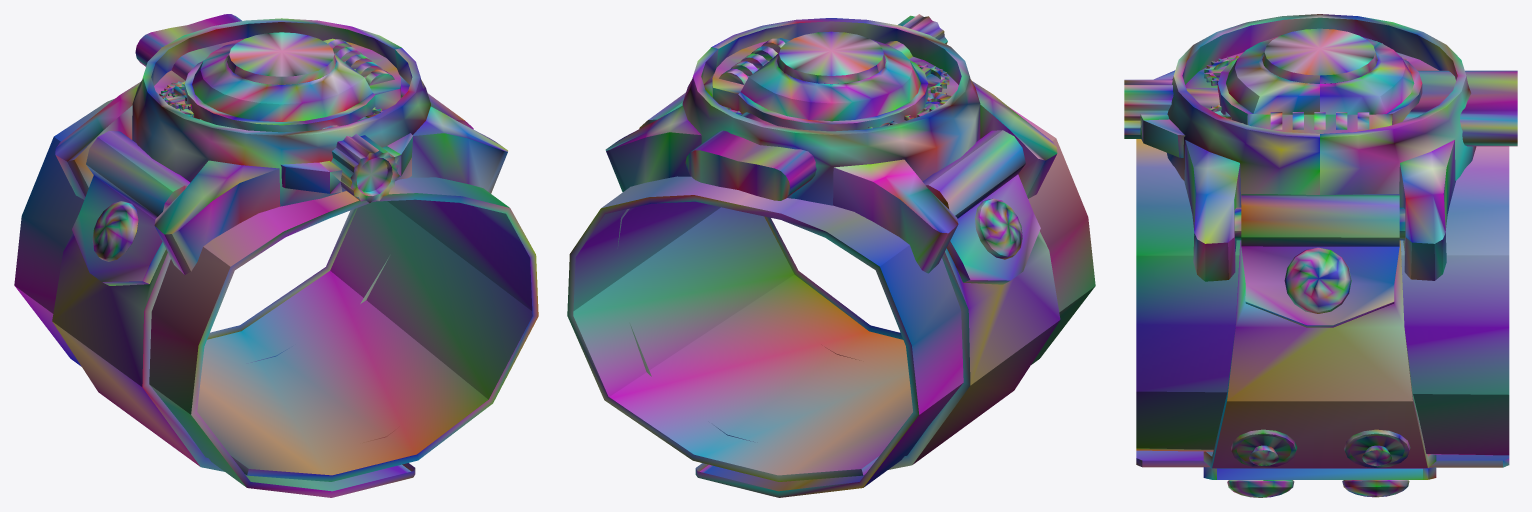
File: Web_Shooter.fbx
3 renders of one model, left to right at view 1: azimuth 30°, elevation 25°; view 2: azimuth 150°, elevation 25°; view 3: azimuth 270°, elevation 25°, orthographic. The views are drawn at different scales.
Visible parts, largest first — view 1: Web_Shooter; view 2: Web_Shooter; view 3: Web_Shooter.
Part boxes in pixels (bbox=[...]): Web_Shooter: bbox=[14, 14, 538, 497]; Web_Shooter: bbox=[567, 14, 1095, 497]; Web_Shooter: bbox=[1124, 14, 1517, 497].
Size of the model in its own units: 2.68 by 2.66 by 2.33.
